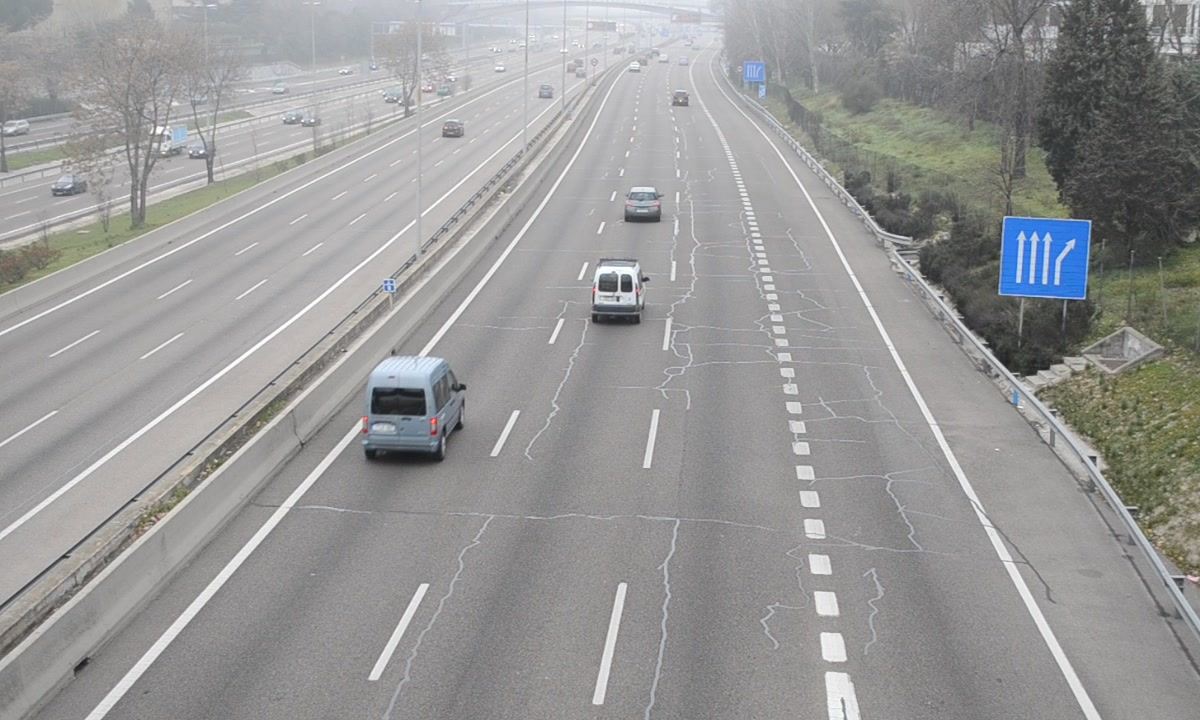car: (623, 186, 663, 224)
van: (359, 357, 462, 455), (593, 263, 644, 324)
